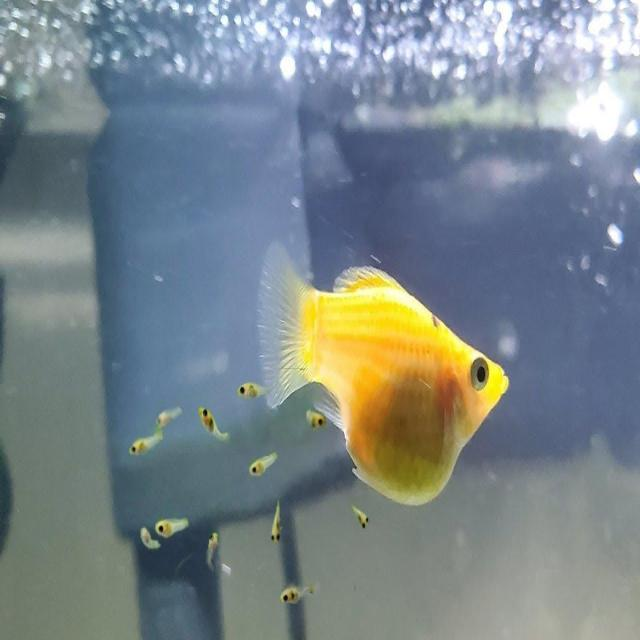PlatyFish: (246, 222, 521, 526)
